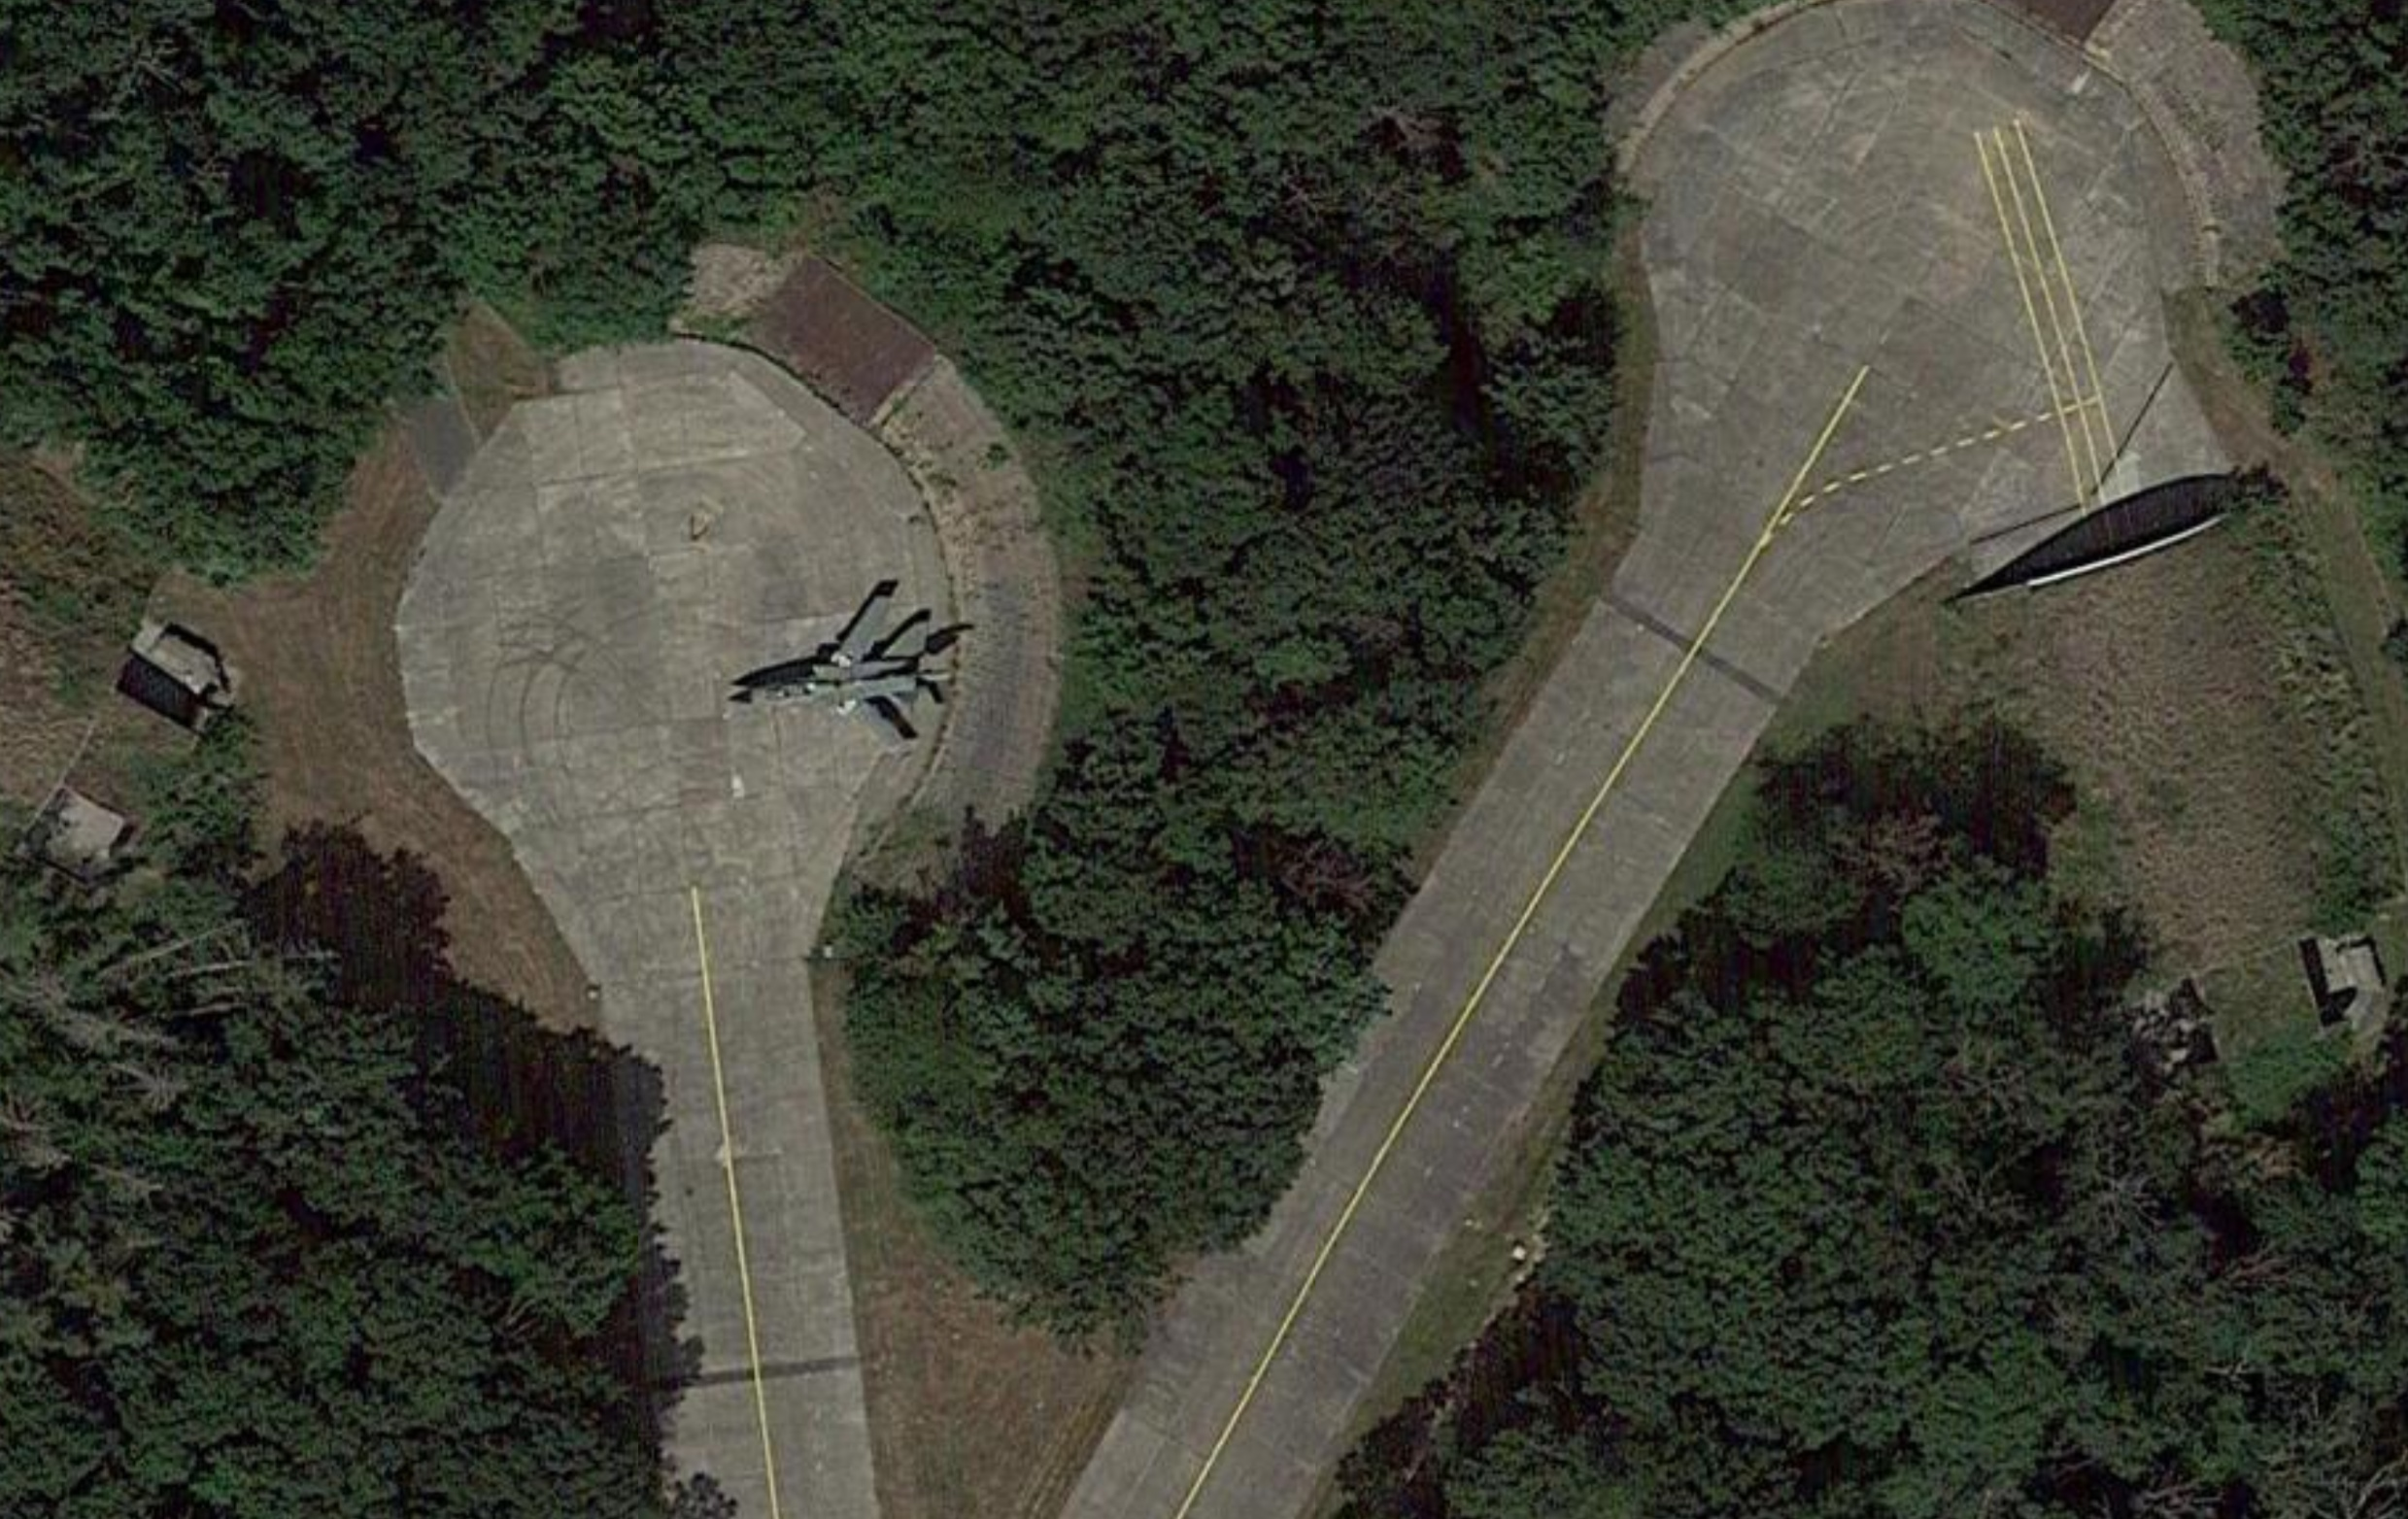Tornado: (724, 595, 959, 747)
